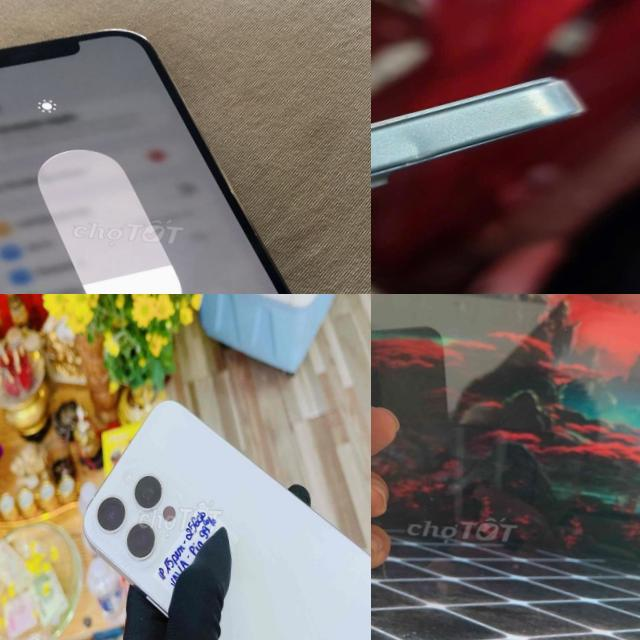gen_12_13: (0, 7, 371, 294), (65, 390, 371, 640)
gen_15: (371, 43, 588, 293)
